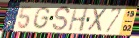5: (16, 5, 34, 31)
7: (104, 7, 124, 34)
G: (31, 6, 52, 30)
H: (67, 7, 90, 33)
S: (52, 5, 71, 32)
X: (87, 7, 109, 33)
